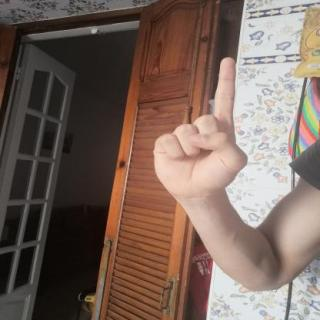BAA: (143, 50, 259, 212)
